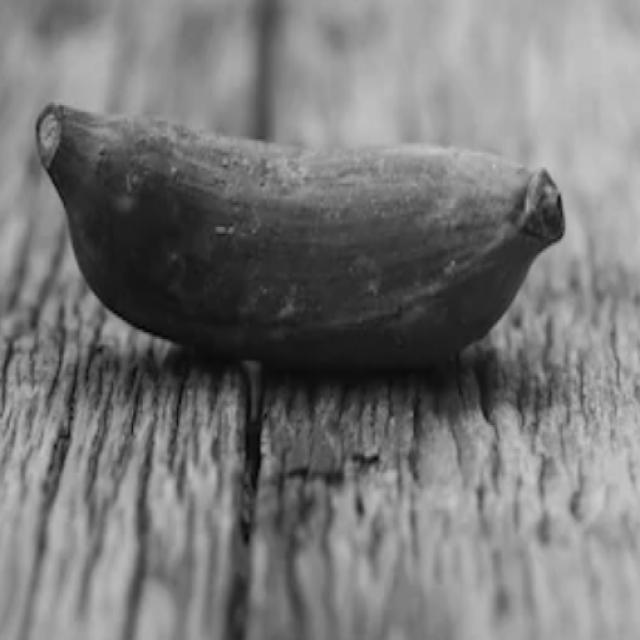Rotten: (22, 62, 582, 390)
